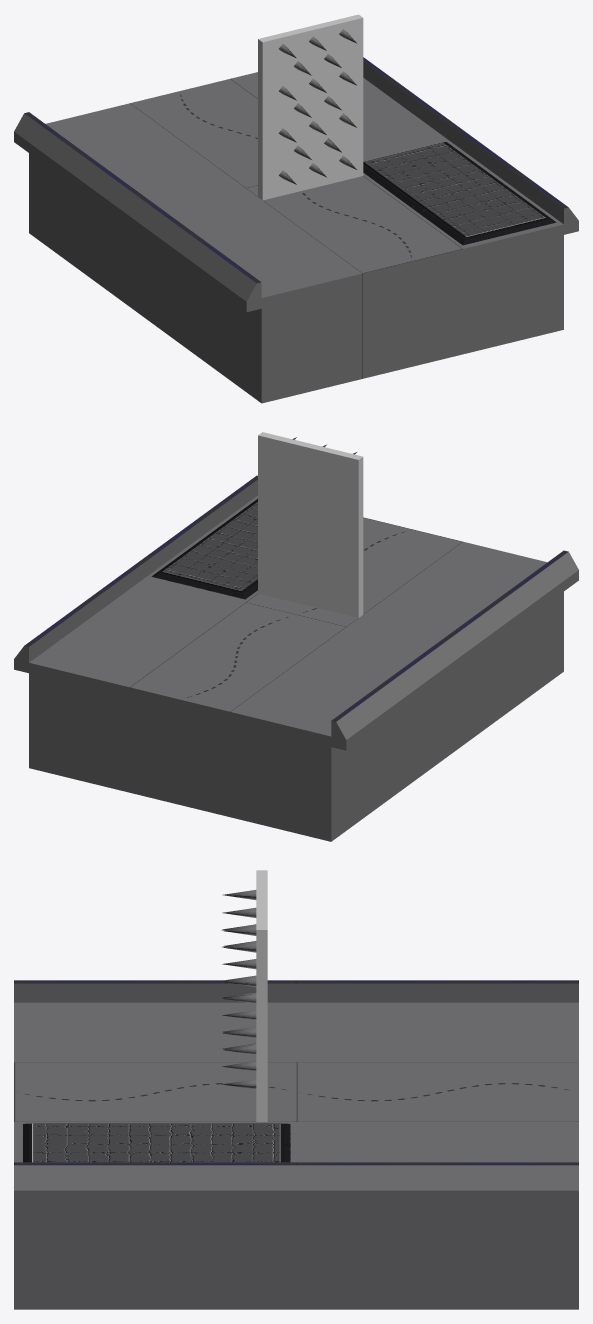
Rendered from Terrain Endless runnner.FBX.
3 renders of one model, top to bottom at view 1: azimuth 30°, elevation 25°; view 2: azimuth 150°, elevation 25°; view 3: azimuth 270°, elevation 25°, orthographic. The views are drawn at different scales.
Visible parts, largest first — view 1: Box007, Box010, Box001, Box005, Box002, Box006, Box008, Box009, Cone001; view 2: Box010, Box009, Box007, Box008, Box005, Box001, Box006, Box002; view 3: Box009, Box002, Box010, Box007, Box008, Box001, Box006, Box005, Cone001.
Boxes of the visible parts, bbox=[...] form: Box007: bbox=[130, 188, 362, 403]; Box010: bbox=[14, 103, 245, 317]; Box001: bbox=[246, 176, 463, 378]; Box005: bbox=[258, 14, 363, 200]; Box002: bbox=[363, 122, 578, 354]; Box006: bbox=[363, 142, 556, 245]; Box008: bbox=[130, 78, 257, 188]; Box009: bbox=[231, 57, 451, 159]; Cone001: bbox=[278, 29, 356, 184]; Box010: bbox=[230, 627, 462, 841]; Box009: bbox=[14, 560, 245, 792]; Box007: bbox=[347, 541, 578, 756]; Box008: bbox=[129, 602, 346, 817]; Box005: bbox=[258, 432, 363, 617]; Box001: bbox=[246, 517, 462, 626]; Box006: bbox=[151, 499, 257, 599]; Box002: bbox=[141, 475, 257, 601]; Box009: bbox=[296, 1122, 578, 1309]; Box002: bbox=[14, 1122, 296, 1309]; Box010: bbox=[296, 980, 578, 1062]; Box007: bbox=[14, 980, 296, 1062]; Box008: bbox=[296, 1062, 578, 1121]; Box001: bbox=[14, 1062, 296, 1121]; Box006: bbox=[23, 1123, 290, 1162]; Box005: bbox=[256, 870, 267, 1121]; Cone001: bbox=[221, 890, 256, 1089].
Bounding box in the file's own units: 33 × 25 × 40.
